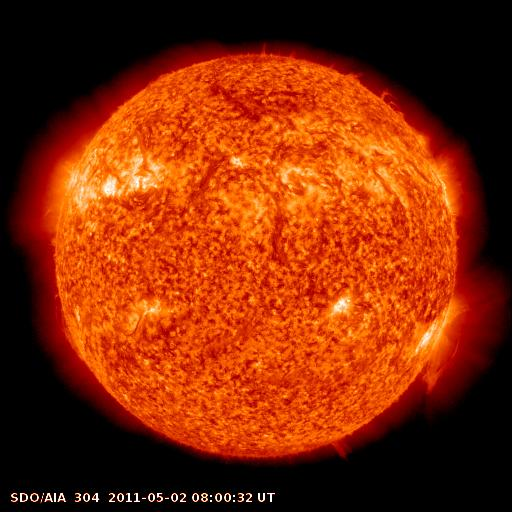prominence: (405, 329, 484, 392), (48, 291, 92, 364), (321, 425, 366, 469), (323, 55, 367, 90), (380, 84, 409, 127)
